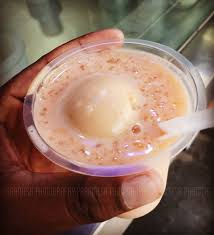jigirthanda: (44, 70, 186, 156)
